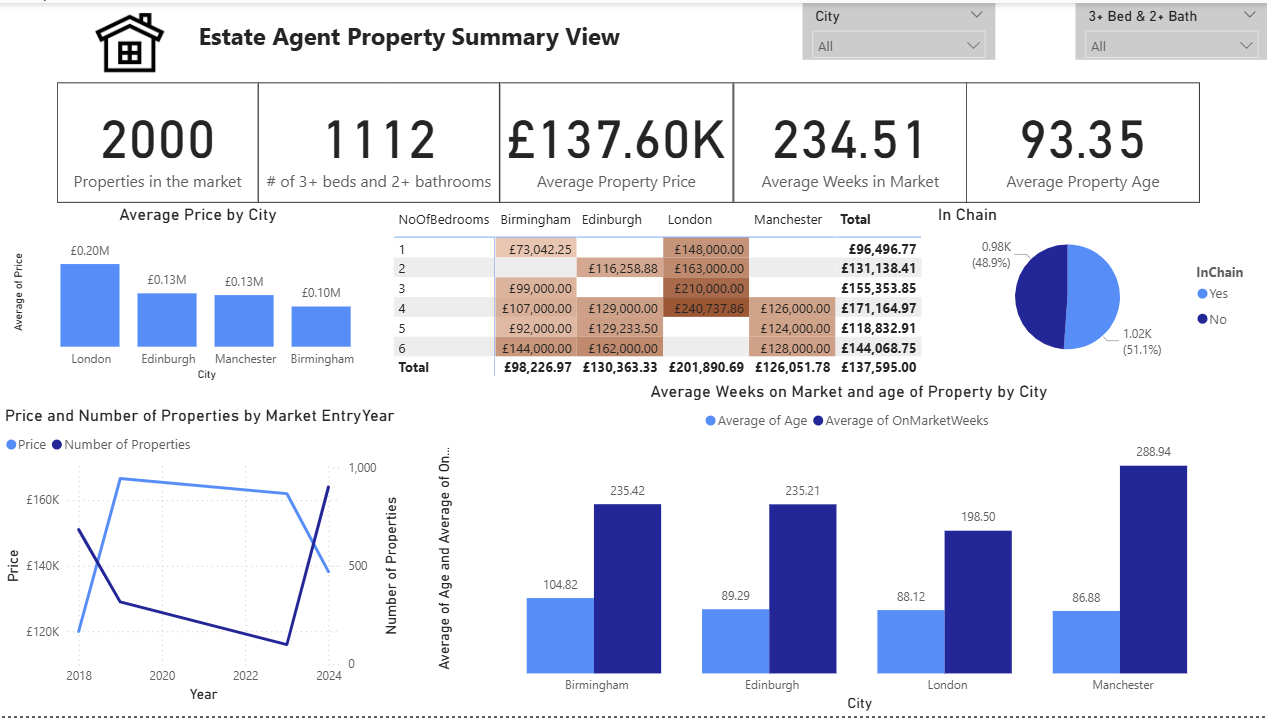

This screenshot's page, from the dashboard's own definition file:
{"tool":"powerbi","page":{"name":"Summary","canvas":[1280,720],"ordinal":1},"visuals":[{"type":"card","fields":{"Values":["CountNonNull(All Estate Agent.ID)"]},"box":[57.2,79.6,203.1,121.5],"z":0},{"type":"card","fields":{"Values":["Avg(All Estate Agent.Price)"]},"box":[504.2,79.6,235.8,121.5],"z":1000},{"type":"columnChart","title":"Average Price by City","fields":{"Category":["All Estate Agent.City"],"Y":["Avg(All Estate Agent.Price)"]},"box":[7.1,203.1,384.8,182.7],"z":2000},{"type":"pivotTable","title":"Average Price by City","fields":{"Rows":["All Estate Agent.NoOfBedrooms"],"Columns":["All Estate Agent.City"],"Values":["Avg(All Estate Agent.Price)"]},"box":[392,203.1,550.2,182.7],"z":3000},{"type":"slicer","fields":{"Values":["All Estate Agent.City"]},"box":[809.4,0,195,57.2],"z":4000},{"type":"slicer","fields":{"Values":["All Estate Agent.3+ Bed & 2+ Bath"]},"box":[1085,0,195,57.2],"z":5000},{"type":"card","fields":{"Values":["CountNonNull(All Estate Agent.ID)"]},"box":[260.3,79.6,244,121.5],"z":6000},{"type":"lineChart","title":"Price and Number of Properties by Market EntryYear","fields":{"Category":["All Estate Agent.OnMarketDate.Variation.Date Hierarchy.Year","All Estate Agent.OnMarketDate.Variation.Date Hierarchy.Quarter","All Estate Agent.OnMarketDate.Variation.Date Hierarchy.Month","All Estate Agent.OnMarketDate.Variation.Date Hierarchy.Day"],"Y2":["CountNonNull(All Estate Agent.ID)"],"Y":["Avg(All Estate Agent.Price)"]},"box":[0,405.2,406.3,304.2],"z":7000},{"type":"pieChart","title":"In Chain","fields":{"Category":["All Estate Agent.InChain"],"Y":["CountNonNull(All Estate Agent.ID)"]},"box":[942.1,203.1,337.9,167.4],"z":8000},{"type":"clusteredColumnChart","title":"Average Weeks on Market and age of Property by City","fields":{"Category":["All Estate Agent.City"],"Y":["Avg(All Estate Agent.Age)","Avg(All Estate Agent.OnMarketWeeks)"]},"box":[434.8,381.8,845.2,337.9],"z":9000},{"type":"card","fields":{"Values":["Avg(All Estate Agent.OnMarketWeeks)"]},"box":[740,79.6,235.8,121.5],"z":10000},{"type":"card","fields":{"Values":["Avg(All Estate Agent.Age)"]},"box":[975.8,79.6,235.8,121.5],"z":11000},{"type":"textbox","box":[196,11.2,471.6,57.2],"z":12000},{"type":"image","box":[89.8,0,83.7,79.6],"z":13000}]}

Visuals, with their boxes in screenshot pixels (x1, y1, x2, y2), scaled from the page's 1280x720 canvas onto the 1267x718 screenshot:
card - CountNonNull(All Estate Agent.ID): BBox(57, 79, 258, 201)
card - Avg(All Estate Agent.Price): BBox(499, 79, 732, 201)
"Average Price by City" columnChart: BBox(7, 203, 388, 385)
"Average Price by City" pivotTable: BBox(388, 203, 933, 385)
slicer - All Estate Agent.City: BBox(801, 0, 994, 57)
slicer - All Estate Agent.3+ Bed & 2+ Bath: BBox(1074, 0, 1266, 57)
card - CountNonNull(All Estate Agent.ID): BBox(258, 79, 499, 201)
"Price and Number of Properties by Market EntryYear" lineChart: BBox(0, 404, 402, 707)
"In Chain" pieChart: BBox(933, 203, 1266, 369)
"Average Weeks on Market and age of Property by City" clusteredColumnChart: BBox(430, 381, 1266, 717)
card - Avg(All Estate Agent.OnMarketWeeks): BBox(732, 79, 966, 201)
card - Avg(All Estate Agent.Age): BBox(966, 79, 1199, 201)
textbox: BBox(194, 11, 661, 68)
image: BBox(89, 0, 172, 79)
